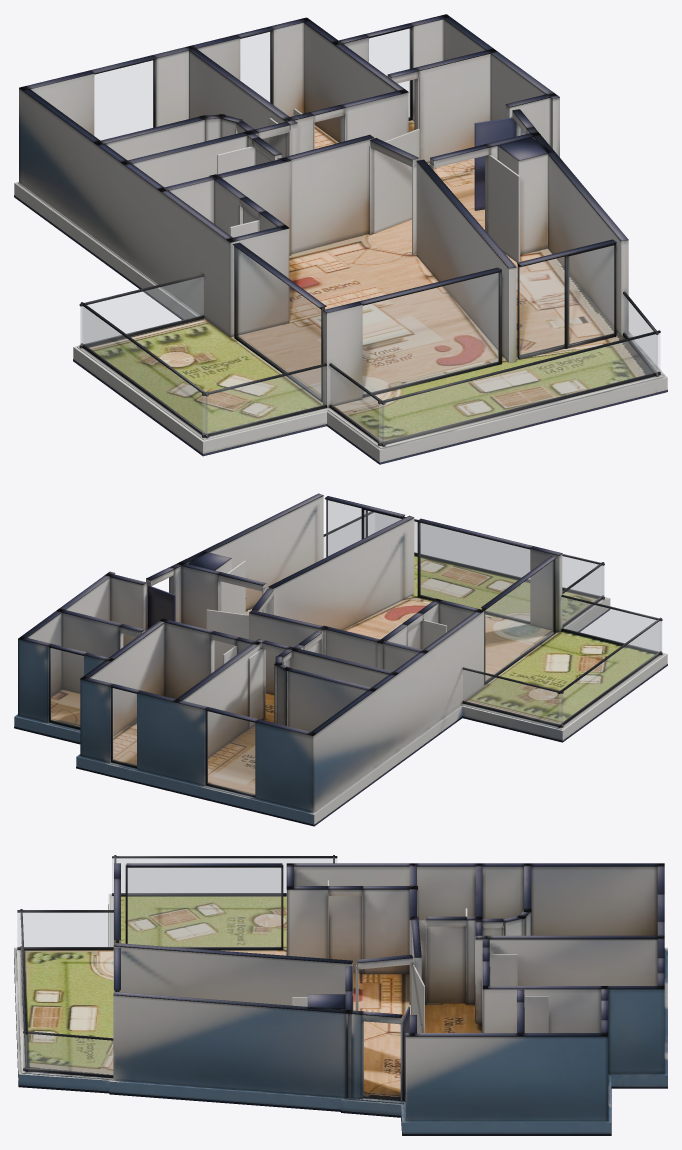
3 views of the same model, one above another, from view 1: azimuth 30°, elevation 25°; view 2: azimuth 150°, elevation 25°; view 3: azimuth 270°, elevation 25° (orthographic). The views are drawn at different scales.
Visible parts, largest first — view 1: plan, glass0_m, railg1_m, glass2_m, glass1_m, railg3_m, railg5_m, railg4_m, glass3_m, railg2_m, glass4_m, glass5_m (+1 smaller); view 2: plan, glass0_m, glass1_m, railg1_m, glass3_m, railg3_m, railg4_m, railg5_m, glass5_m, glass2_m, glass4_m, railg2_m (+1 smaller); view 3: plan, glass1_m, railg3_m, railg2_m, railg0_m.
Part boxes in pixels (x1=…): plan: x1=14, y1=14, x2=667, y2=464; glass0_m: x1=363, y1=273, x2=498, y2=394; railg1_m: x1=379, y1=333, x2=659, y2=442; glass2_m: x1=519, y1=245, x2=613, y2=356; glass1_m: x1=237, y1=248, x2=320, y2=397; railg3_m: x1=82, y1=306, x2=207, y2=435; railg5_m: x1=202, y1=366, x2=325, y2=434; railg4_m: x1=80, y1=277, x2=203, y2=345; glass3_m: x1=94, y1=60, x2=153, y2=140; railg2_m: x1=330, y1=367, x2=384, y2=443; glass4_m: x1=240, y1=32, x2=270, y2=102; glass5_m: x1=369, y1=28, x2=410, y2=117; plan: x1=14, y1=493, x2=667, y2=826; glass0_m: x1=420, y1=523, x2=529, y2=621; glass1_m: x1=485, y1=561, x2=553, y2=680; railg1_m: x1=375, y1=513, x2=604, y2=596; glass3_m: x1=207, y1=711, x2=254, y2=794; railg3_m: x1=559, y1=621, x2=660, y2=725; railg4_m: x1=463, y1=670, x2=562, y2=724; railg5_m: x1=562, y1=597, x2=661, y2=652; glass5_m: x1=50, y1=648, x2=83, y2=727; glass2_m: x1=326, y1=500, x2=401, y2=556; glass4_m: x1=112, y1=688, x2=136, y2=765; railg2_m: x1=563, y1=566, x2=602, y2=624; plan: x1=14, y1=855, x2=667, y2=1135; glass1_m: x1=128, y1=868, x2=280, y2=947; railg3_m: x1=112, y1=858, x2=336, y2=892; railg2_m: x1=17, y1=913, x2=113, y2=946; railg0_m: x1=23, y1=1033, x2=112, y2=1075.
Bounding box in the file's own units: 13.12 × 2.62 × 15.79.
2 materials, 1 textured.
